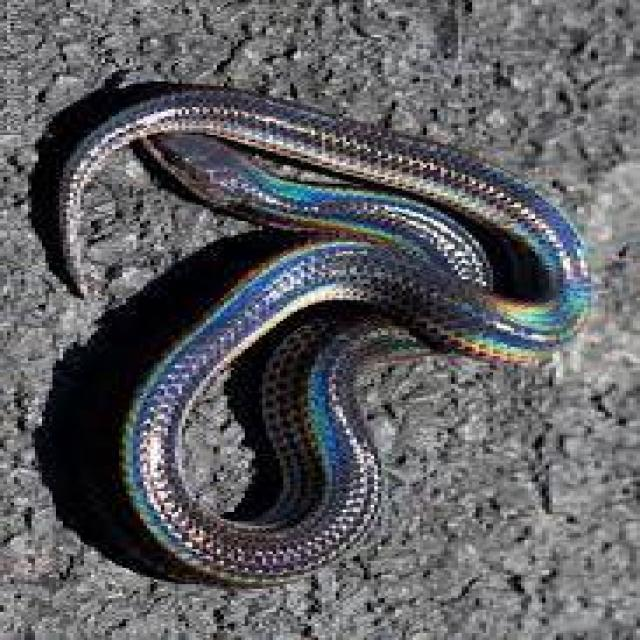Non-Venomous: (148, 114, 308, 220)
